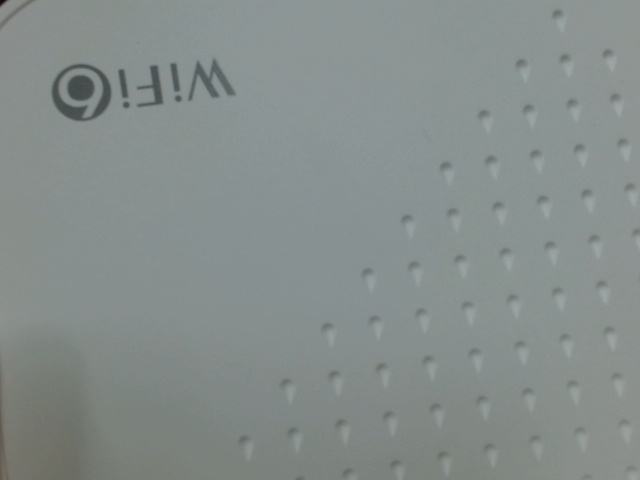AK_ZTEWIFI6: (45, 47, 243, 129)
